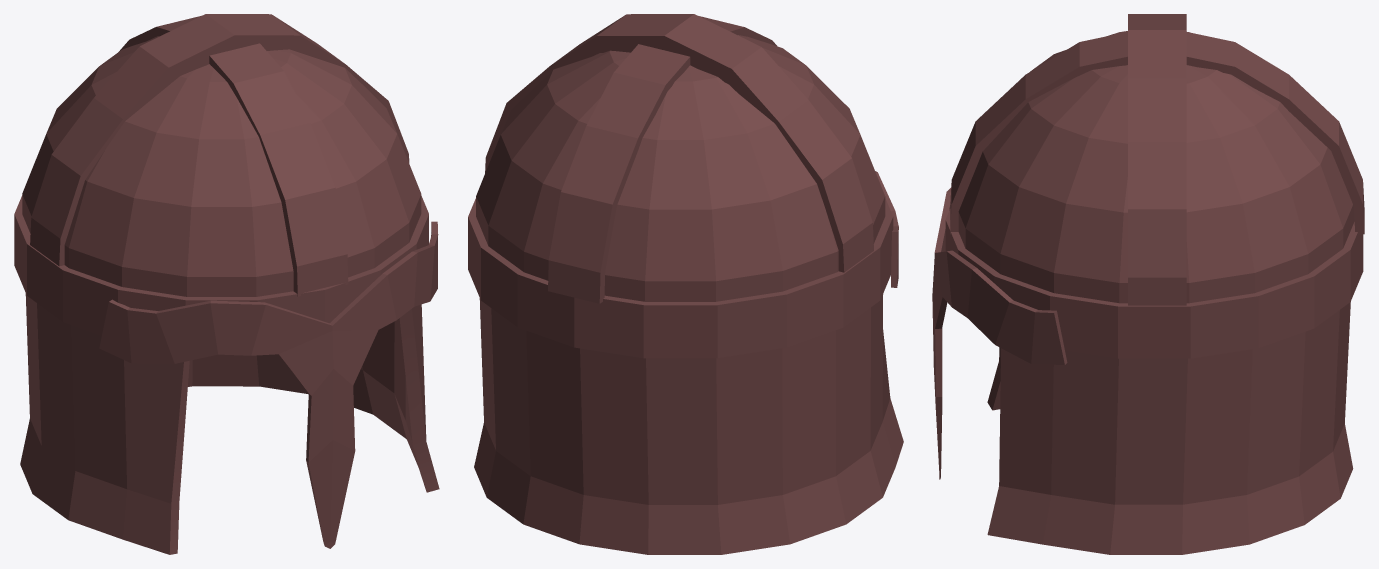
Rendered from SM_helmet_norse_fancy.fbx.
3 renders of one model, left to right at view 1: azimuth 30°, elevation 25°; view 2: azimuth 150°, elevation 25°; view 3: azimuth 270°, elevation 25°, orthographic. The views are drawn at different scales.
Visible parts, largest first — view 1: Object002; view 2: Object002; view 3: Object002.
Part boxes in pixels (x1,y1,x2,y2): Object002: [14, 14, 439, 554]; Object002: [468, 14, 903, 554]; Object002: [932, 14, 1364, 554].
Size of the model in its own units: 9.32 by 11.22 by 9.79.
